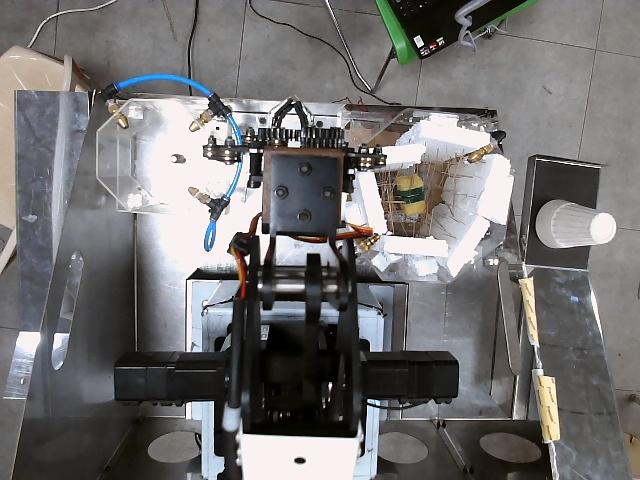cup: (536, 200, 617, 248)
